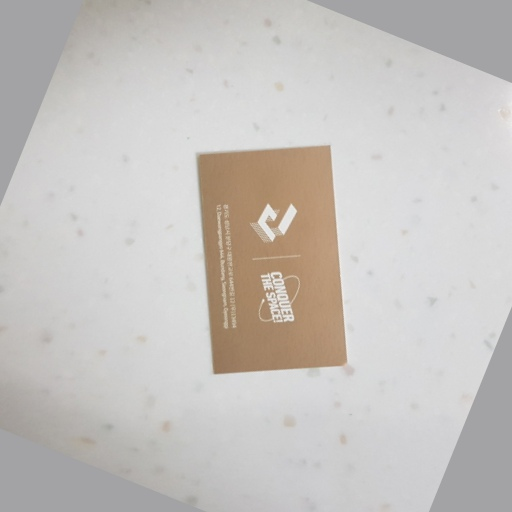Paper_2: (189, 135, 358, 382)
